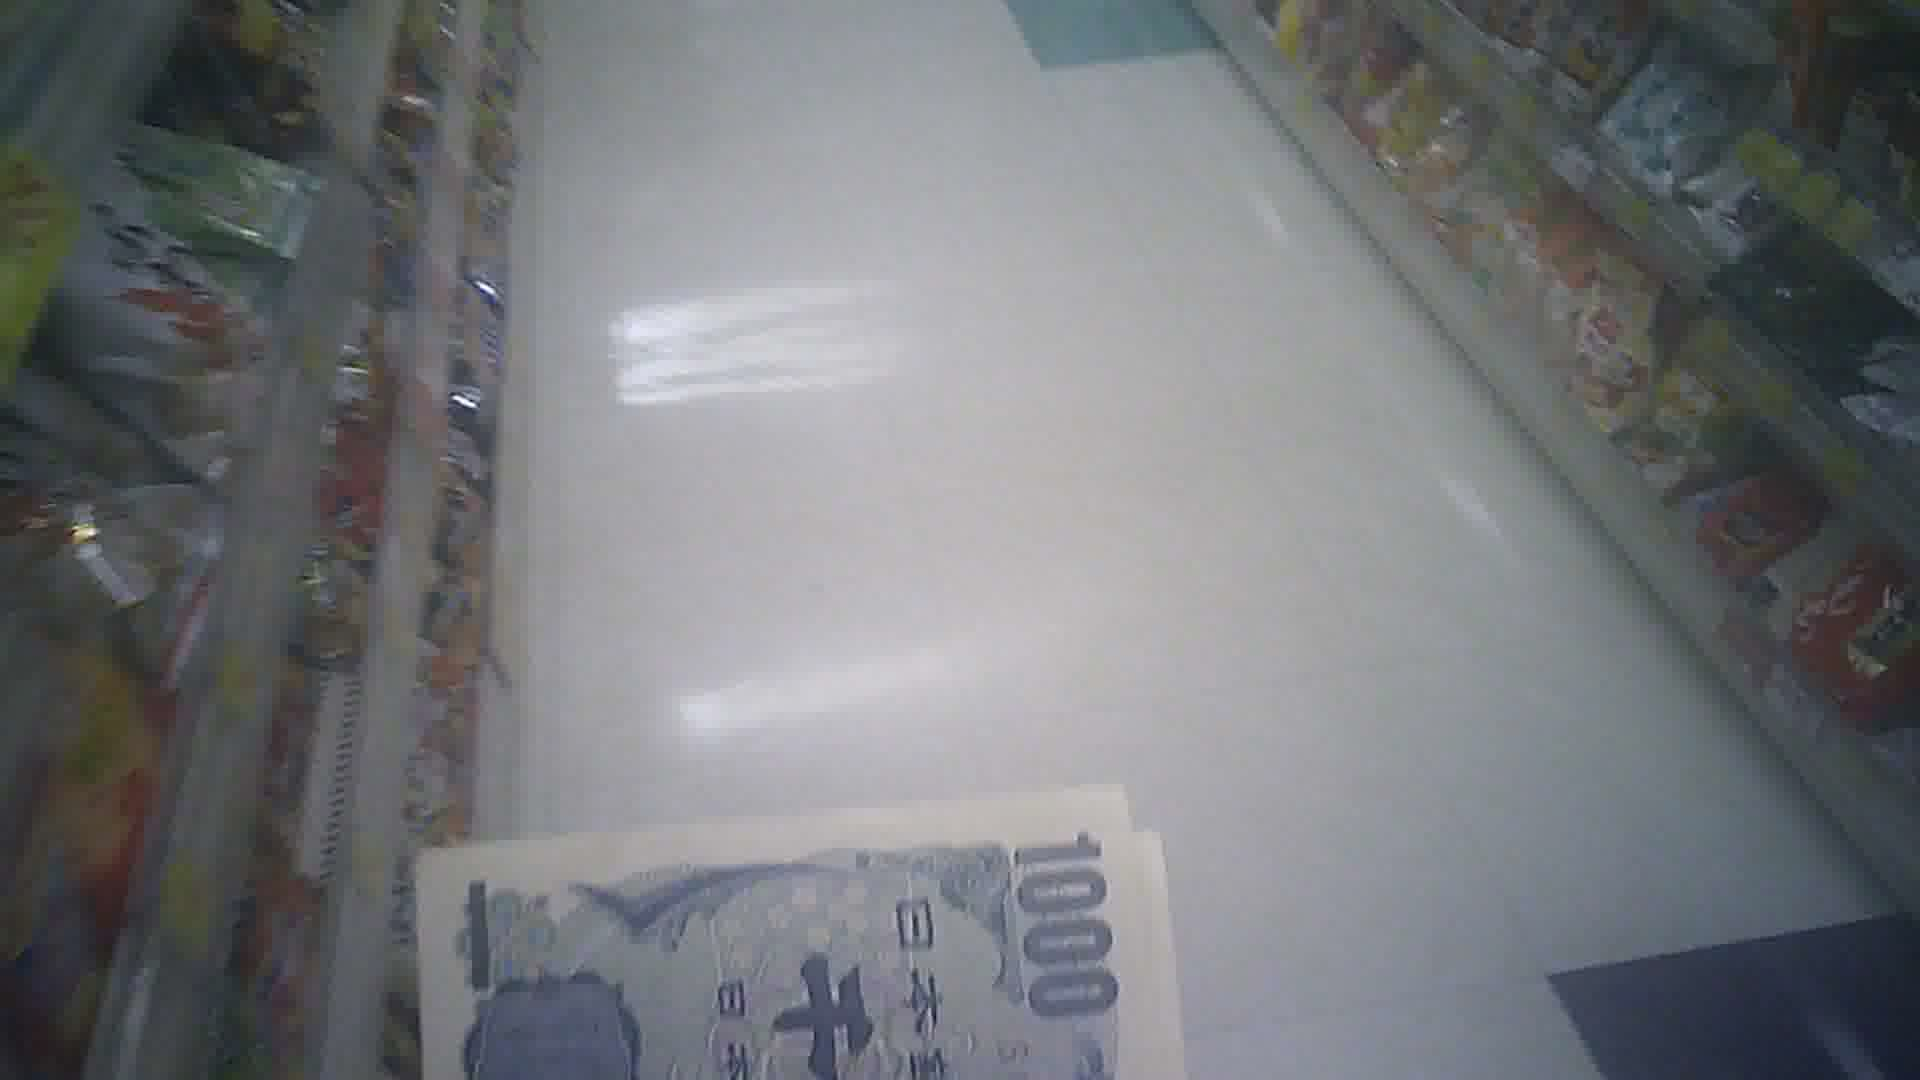1,000 Yen: (411, 796, 1195, 1079)
